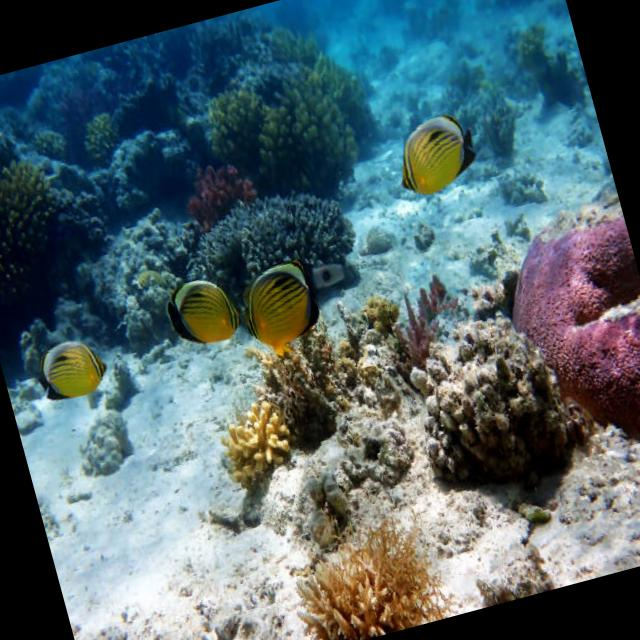ButterflyFish: (386, 105, 491, 198), (230, 254, 325, 348), (156, 269, 244, 356), (27, 329, 112, 413)
